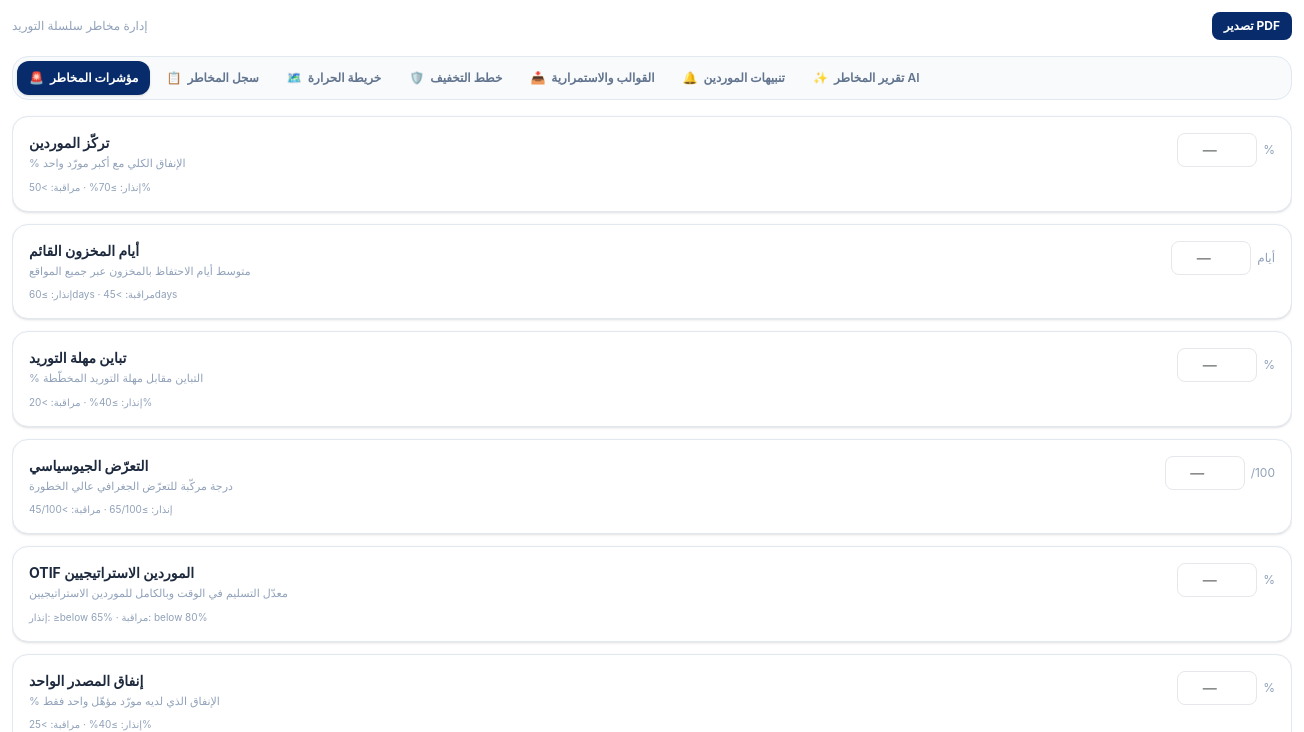
Test: RiskTools — Alert Config table header scope attributes › scope attributes are preserved in Arabic mode
This screenshot has width=1304, height=732.
# Navigate to the alert-config tab (6th tab, index 5)
Click the tab "🔔 تنبيهات الموردين": (734, 78) [670, 61, 797, 95]
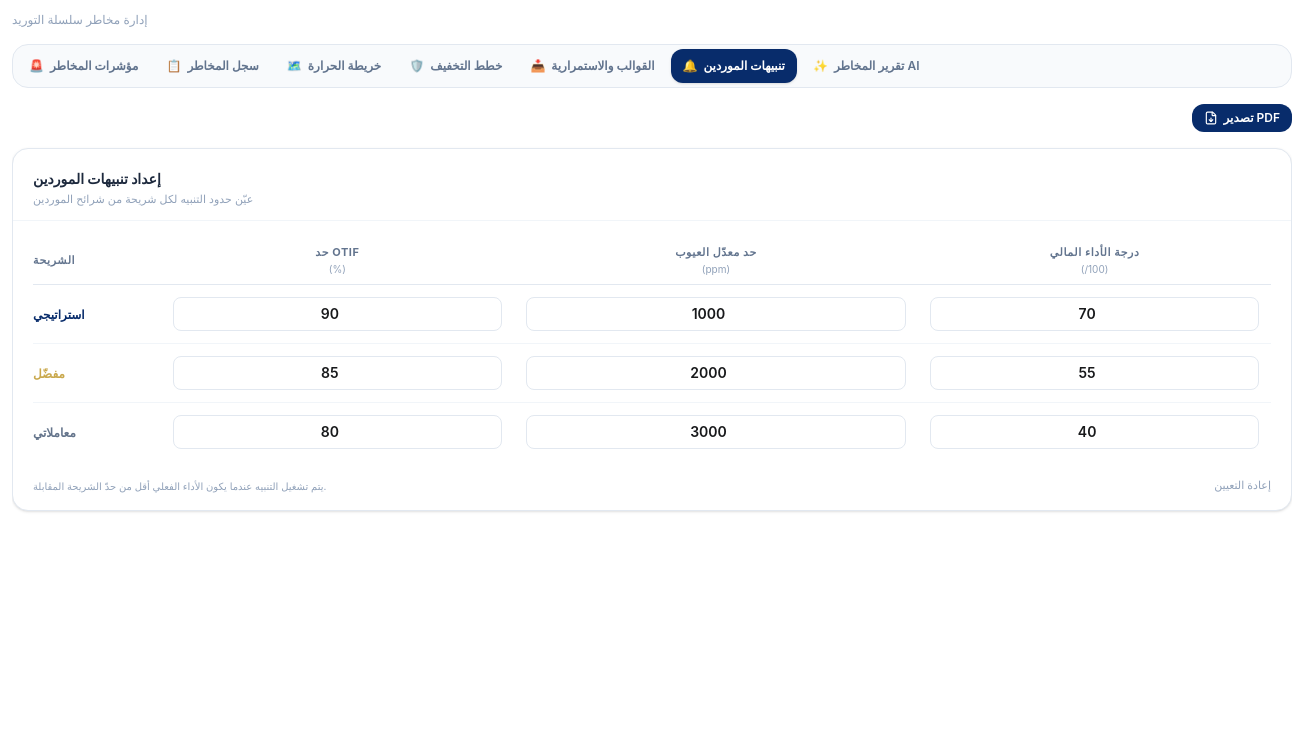
Expected: the column heading "الشريحة" is shown, [33, 236, 161, 285]
